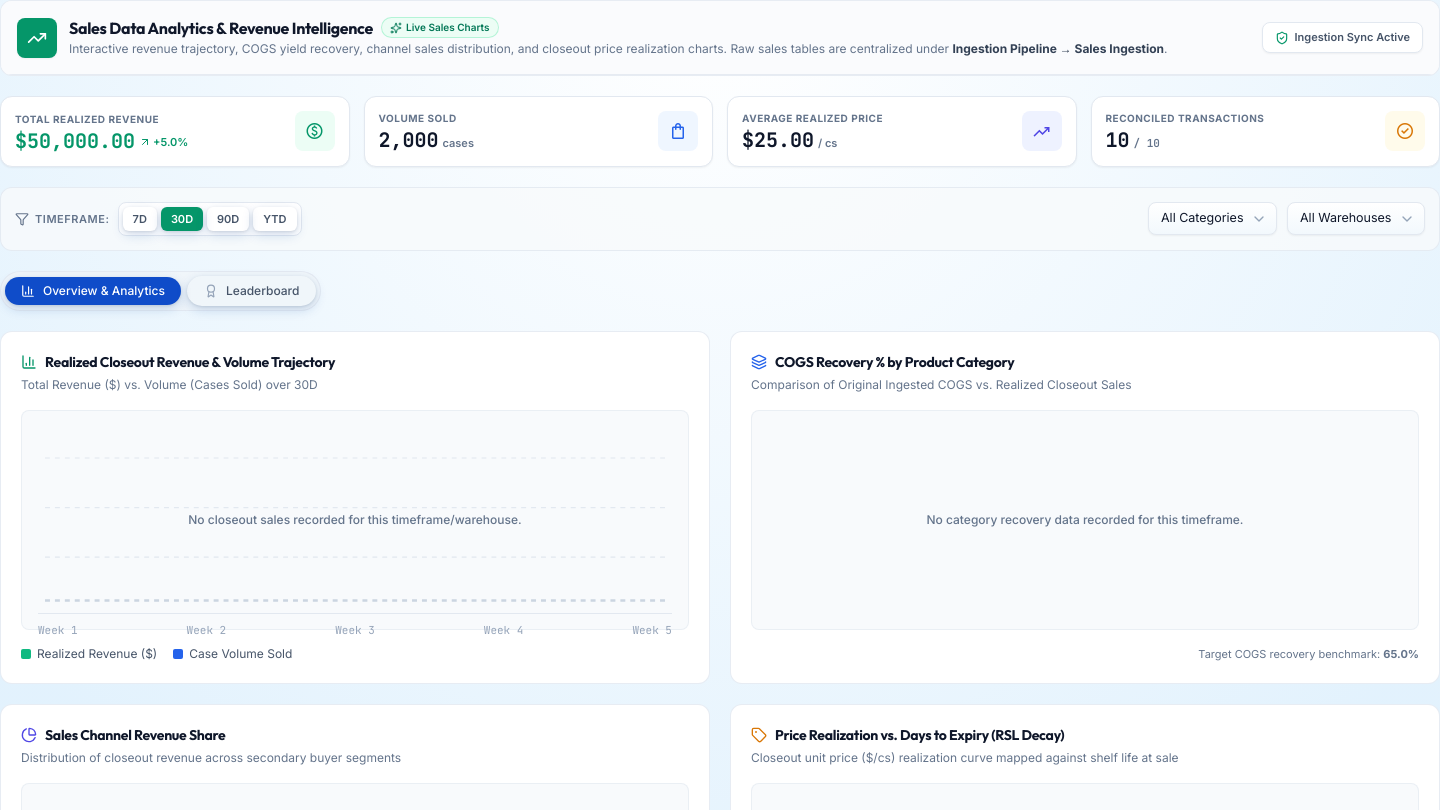
Seam: Leaderboard Unified Header & Secondary Tab Shell › renders unified header with title, description, and secondary pill-toggle bar defaulting to Lead Buyers
Note: Navigate to Leaderboard
Click the tab "Leaderboard".
click(252, 291)  # box [187,276,316,306]
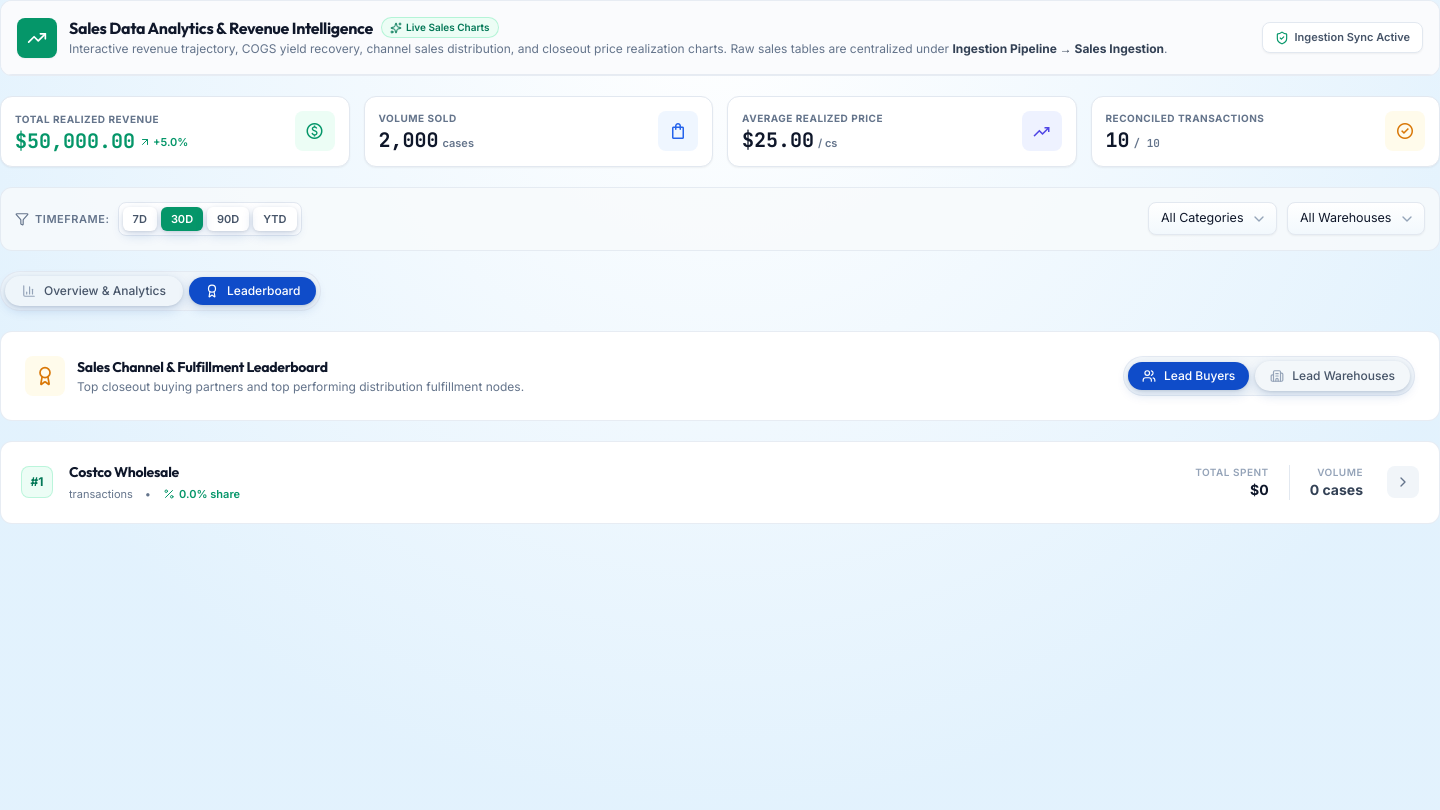
Now the heading "Sales Channel & Fulfillment Leaderboard" is shown, box [77,358,328,376]
Now the text "Top closeout buying partners and top performing distribution fulfillment nodes." is shown, box [77,379,524,395]
Now the element named "leaderboard sub-navigation" is shown, box [1123,356,1415,396]
